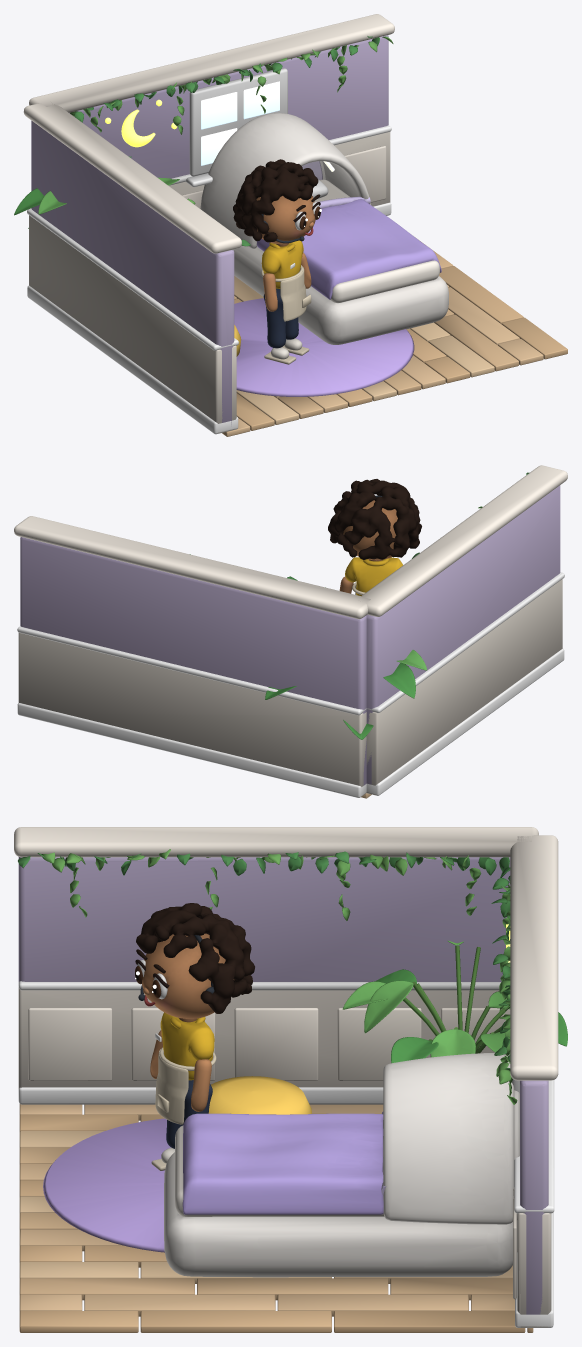
The model's file is nap_showcase.glb.
3 views of the same model, one above another, from view 1: azimuth 30°, elevation 25°; view 2: azimuth 150°, elevation 25°; view 3: azimuth 270°, elevation 25° (orthographic). The views are drawn at different scales.
Visible parts, largest first — view 1: room_wall, room_wain, bed_shell, room_cap, room_rug, room_trim, bed_blanket, room_plank1, char_hair, room_plank0, room_plank2, room_glass (+9 smaller); view 2: room_wall, room_wain, room_cap, room_trim, char_hair, char_shirt, plant_leafA, char_skin; view 3: room_wall, bed_shell, room_wain, room_cap, bed_blanket, room_plank1, room_plank0, room_rug, room_plank3, room_trim, char_hair, room_plank2 (+11 smaller).
Part boxes in pixels (bbox=[...]): room_wall: bbox=[31, 35, 388, 424]; room_wain: bbox=[29, 132, 390, 433]; bed_shell: bbox=[200, 113, 448, 344]; room_cap: bbox=[23, 14, 394, 253]; room_rug: bbox=[234, 298, 414, 396]; room_trim: bbox=[27, 68, 391, 434]; bed_blanket: bbox=[256, 199, 441, 299]; room_plank1: bbox=[234, 237, 567, 430]; char_hair: bbox=[233, 159, 320, 242]; room_plank0: bbox=[222, 284, 543, 436]; room_plank2: bbox=[234, 276, 494, 424]; room_glass: bbox=[201, 81, 279, 165]; room_wall: bbox=[20, 485, 560, 785]; room_wain: bbox=[18, 579, 562, 795]; room_cap: bbox=[14, 465, 567, 619]; room_trim: bbox=[17, 572, 564, 797]; char_hair: bbox=[328, 479, 421, 559]; char_shirt: bbox=[345, 557, 402, 595]; plant_leafA: bbox=[265, 662, 415, 739]; char_skin: bbox=[339, 500, 397, 593]; room_wall: bbox=[18, 857, 548, 1314]; bed_shell: bbox=[164, 1052, 519, 1277]; room_wain: bbox=[18, 987, 551, 1327]; room_cap: bbox=[14, 827, 558, 1080]; bed_blanket: bbox=[182, 1113, 383, 1214]; room_plank1: bbox=[19, 1114, 533, 1332]; room_plank0: bbox=[19, 1104, 514, 1316]; room_rug: bbox=[43, 1118, 170, 1252]; room_plank3: bbox=[19, 1147, 512, 1300]; room_trim: bbox=[18, 981, 554, 1327]; char_hair: bbox=[136, 903, 254, 1013]; room_plank2: bbox=[19, 1131, 512, 1283].
Bounding box in the file's own units: 3.79 × 1.86 × 3.44.
